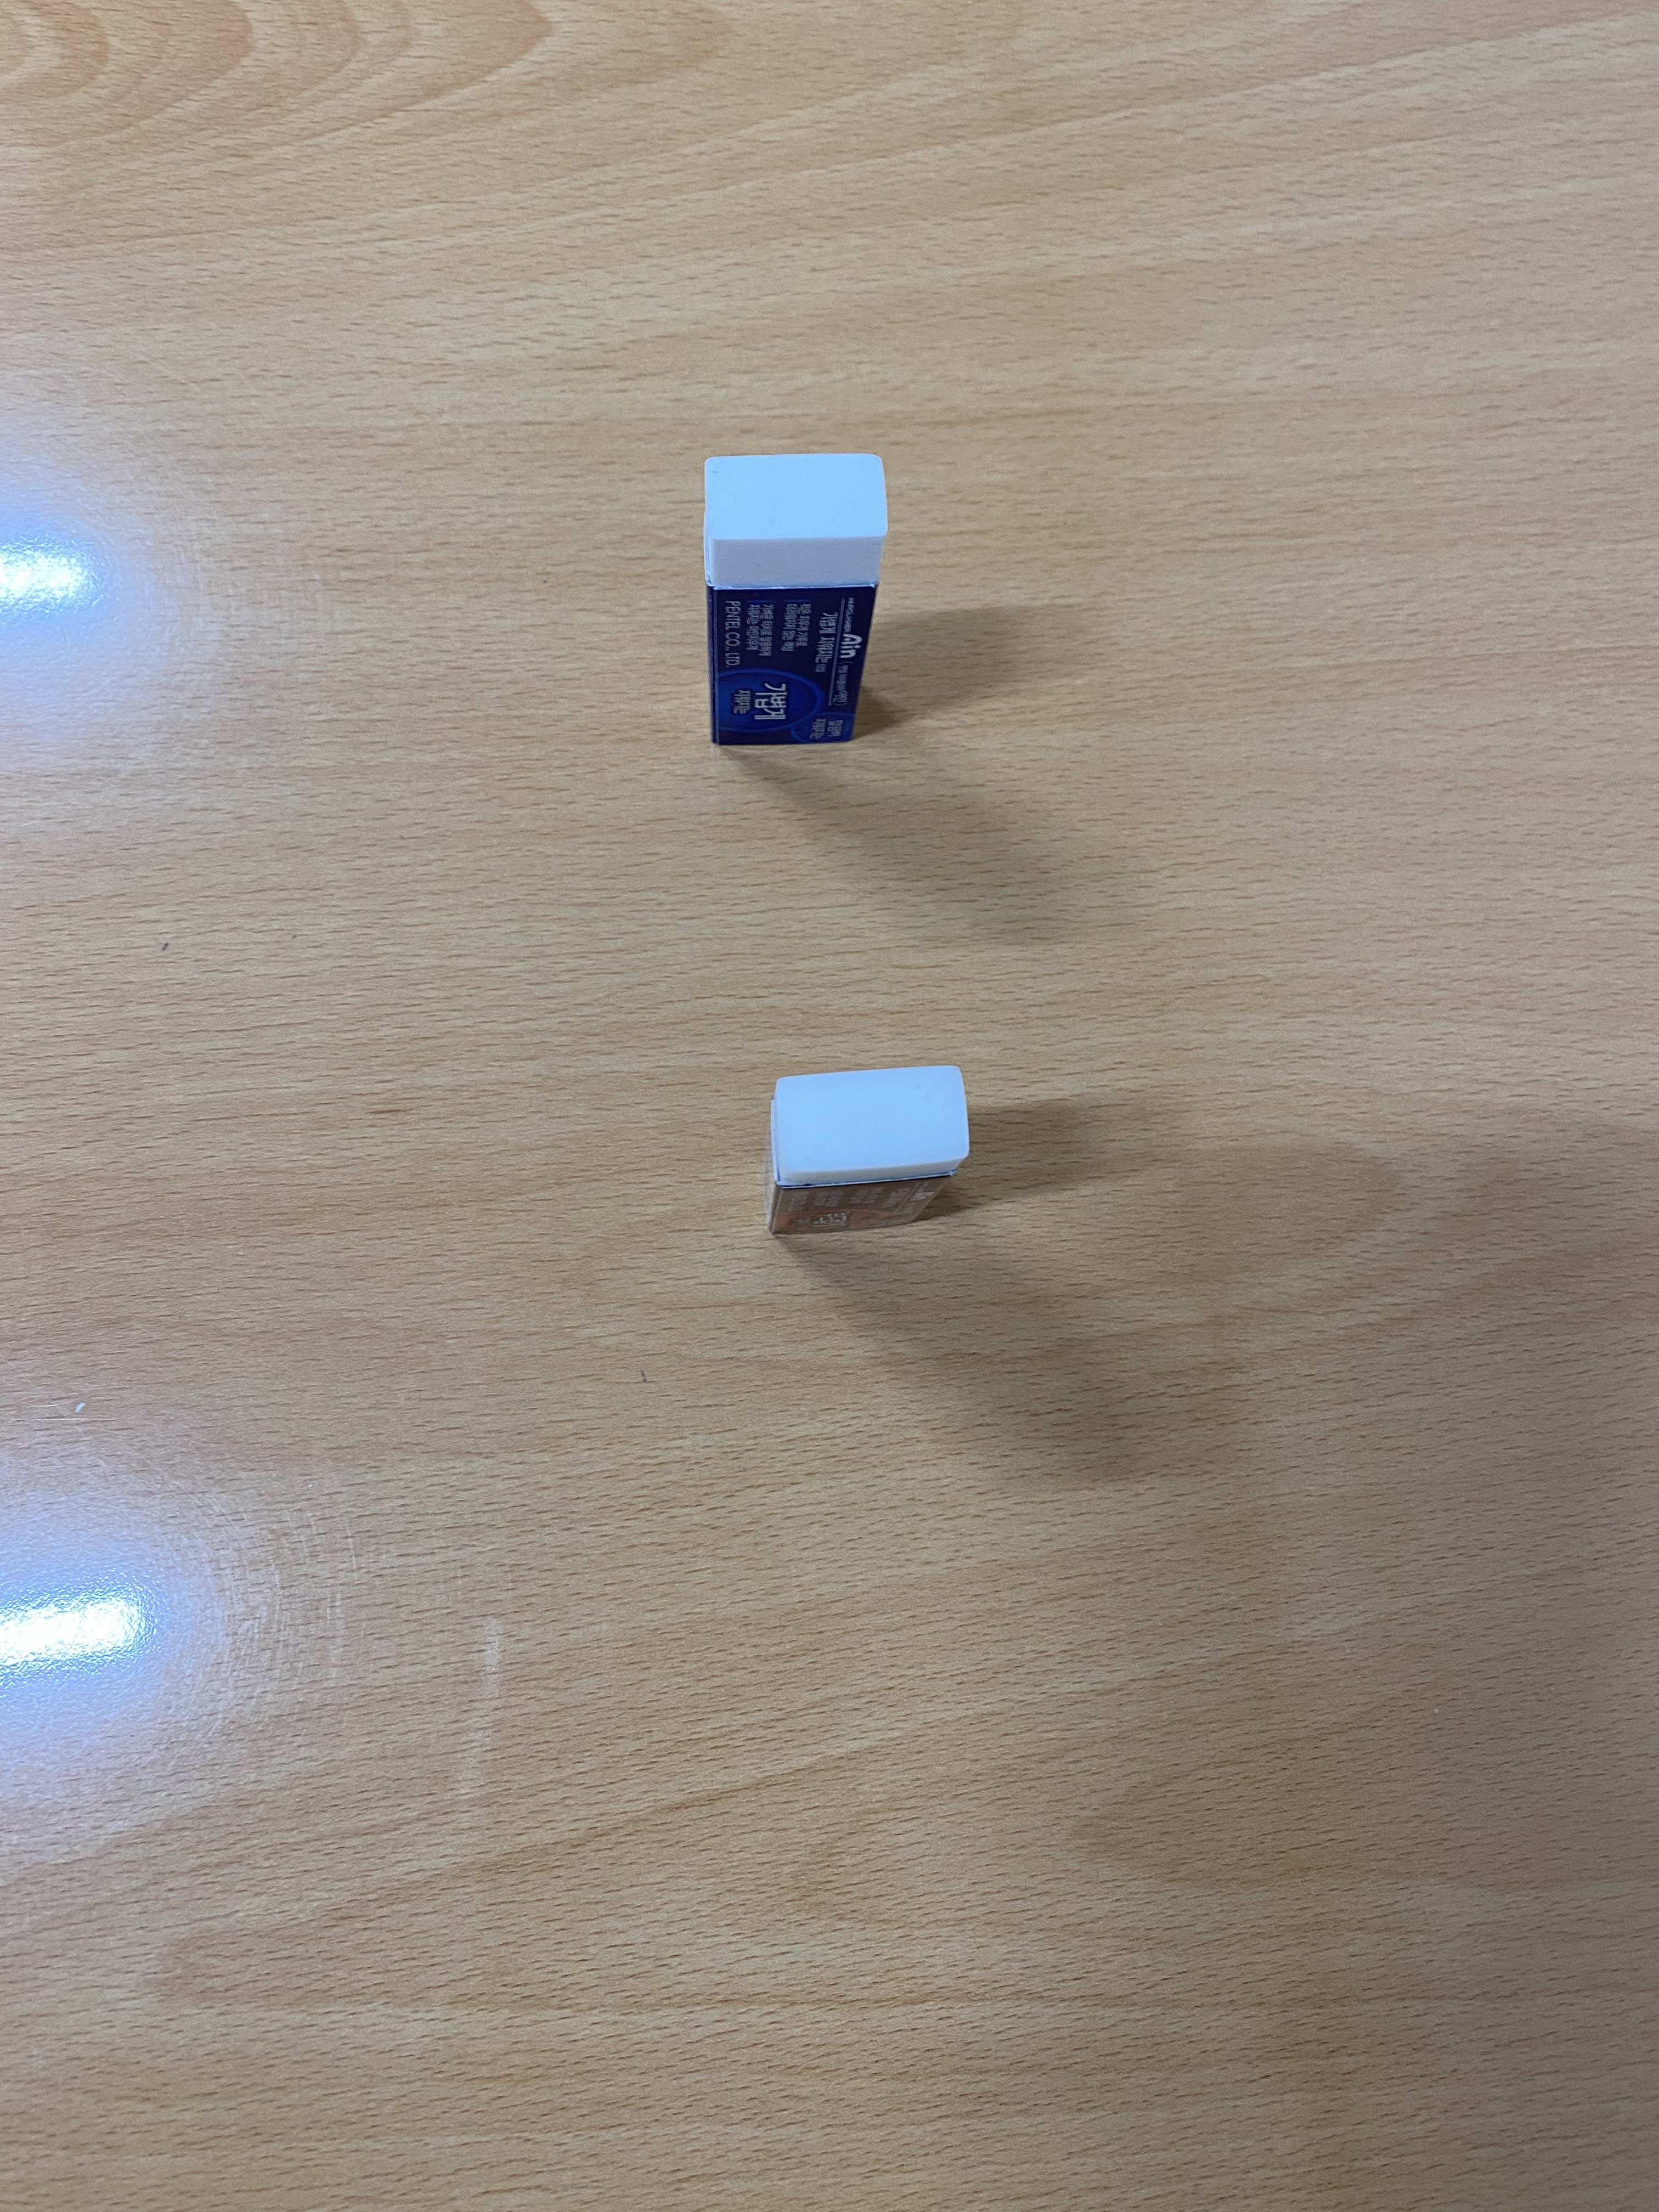blue: (695, 442, 894, 756)
red: (755, 1057, 979, 1251)
